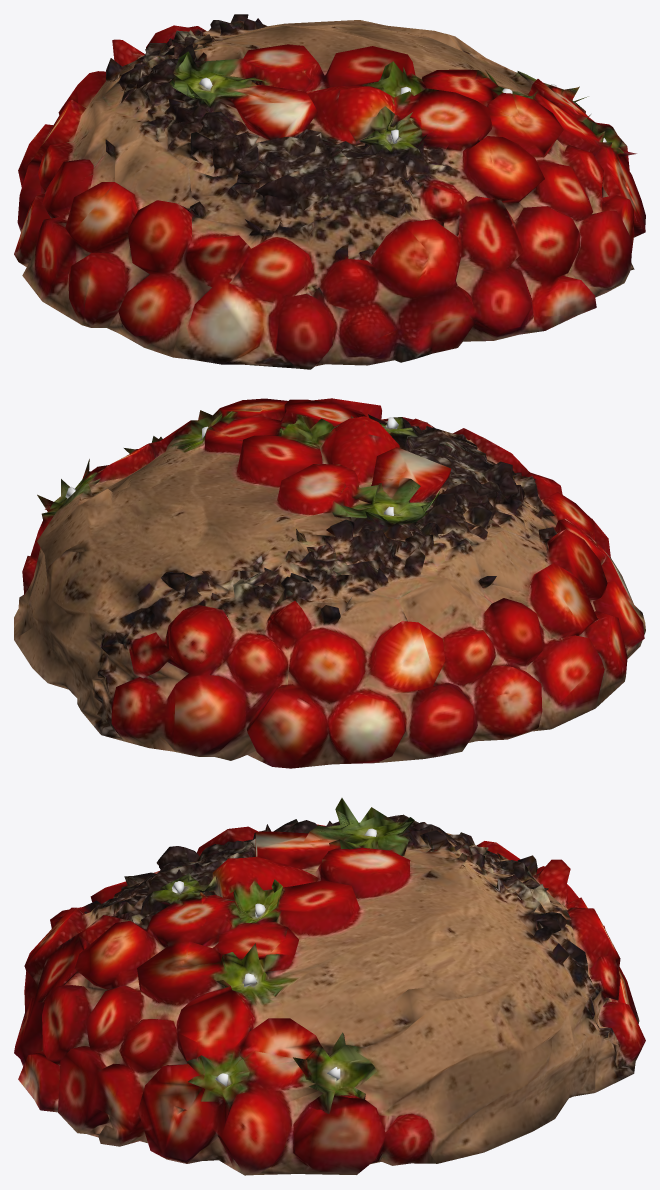
File: strawberry_chocolate_cake.glb
The picture shows the model from 3 angles, top to bottom: view 1: azimuth 30°, elevation 25°; view 2: azimuth 150°, elevation 25°; view 3: azimuth 270°, elevation 25°; orthographic projection. The views are drawn at different scales.
Parts seen in each view (by area): view 1: strawberry_chocolate_cake; view 2: strawberry_chocolate_cake; view 3: strawberry_chocolate_cake.
Boxes of the visible parts, x1=… form: strawberry_chocolate_cake: x1=14, y1=14, x2=645, y2=369; strawberry_chocolate_cake: x1=14, y1=398, x2=645, y2=768; strawberry_chocolate_cake: x1=14, y1=798, x2=645, y2=1175.
Size of the model in its own units: 0.2434 by 0.0771 by 0.2402.
1 material, 1 textured.
